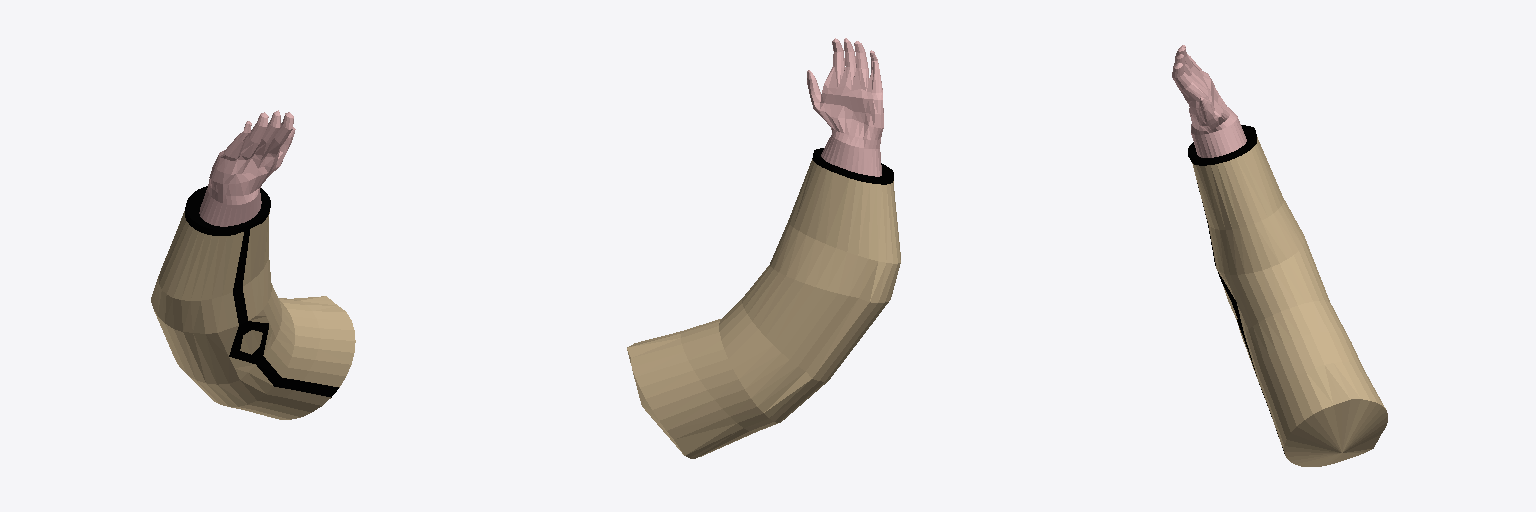
Rendered from deadhand.obj.
The picture shows the model from 3 angles: view 1: azimuth 30°, elevation 25°; view 2: azimuth 150°, elevation 25°; view 3: azimuth 270°, elevation 25°; orthographic projection.
Size of the model in its own units: 13.11 by 21.18 by 10.97.